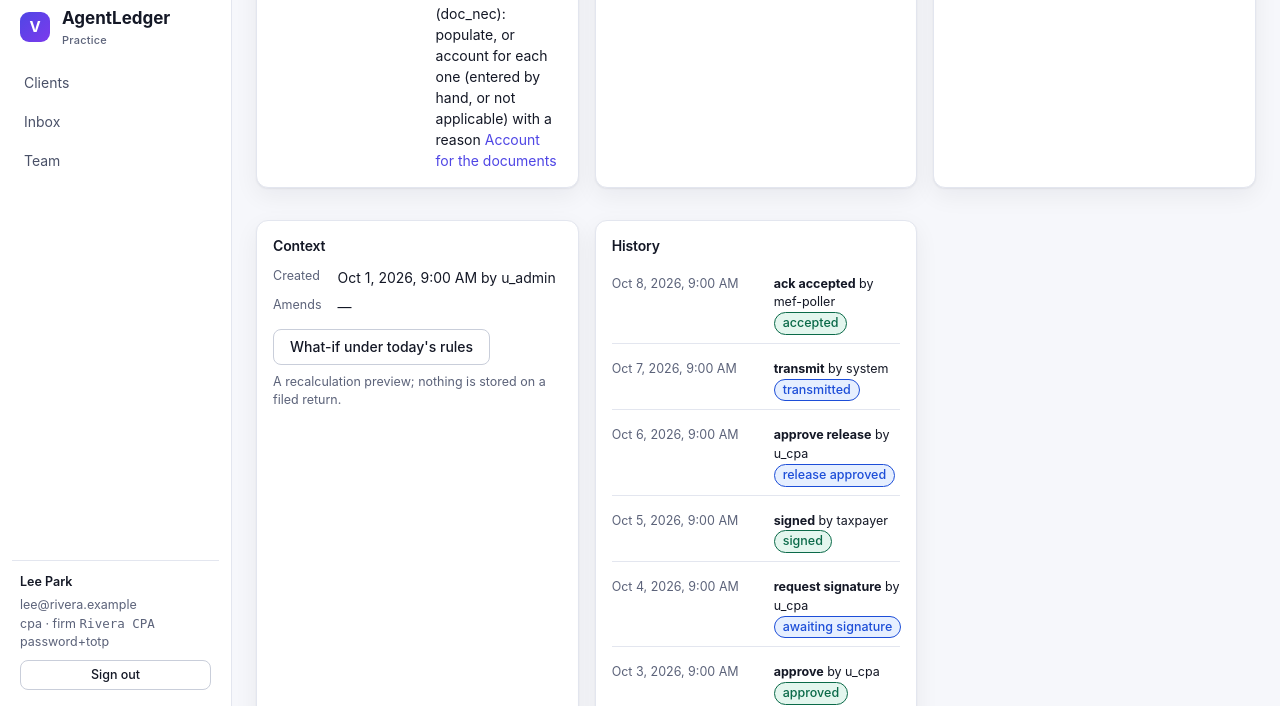
frozen inputs › an accepted return's status page offers the amendment and the what-if preview
(page scrolled)
Click the button "What-if under today's rules" at [382, 346], box [273,328,490,364]
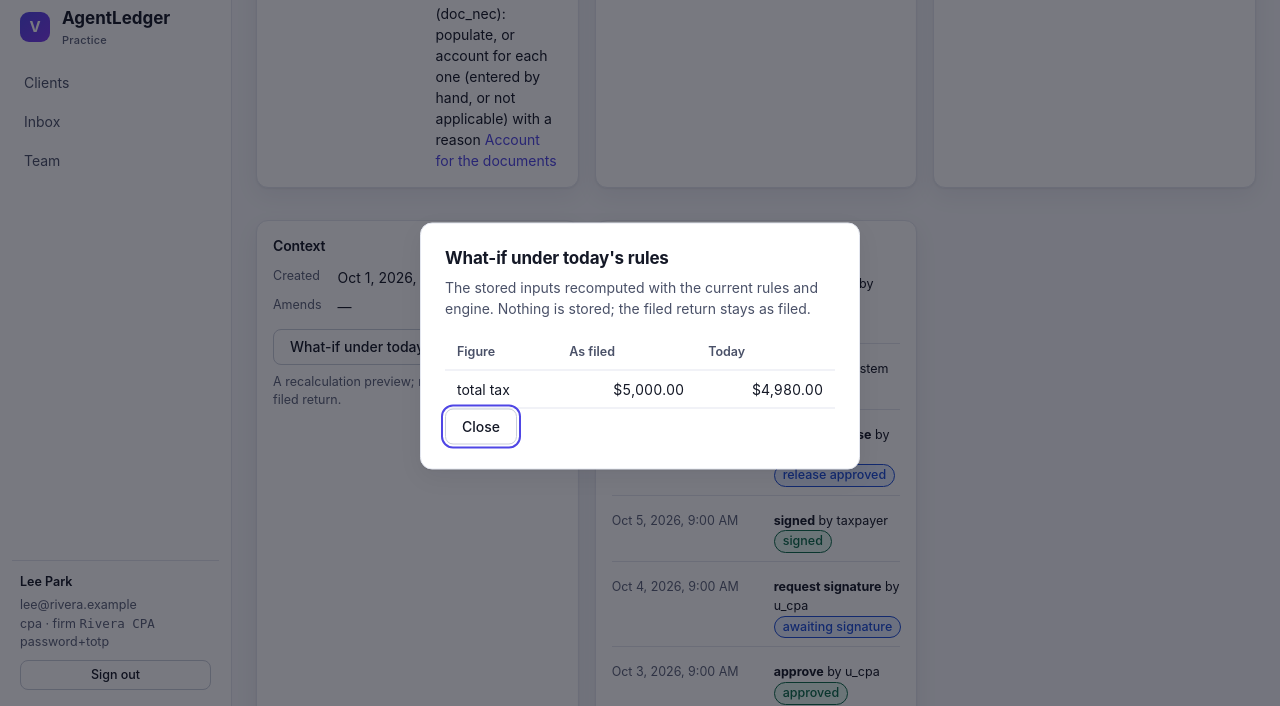
Expected: the text "total tax" is shown, [445,370,557,408]
Expected: the dialog "What-if under today's rules" shows "$4,980.00", [752,380,823,398]
